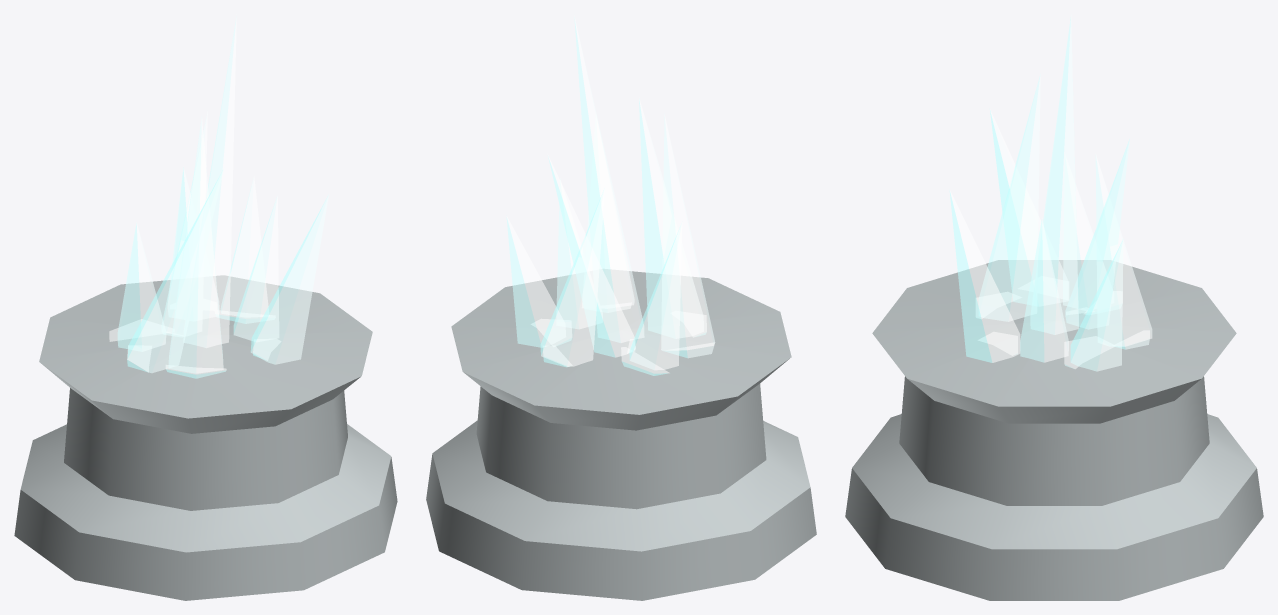
The model's file is uranium_large_source.glb.
The picture shows the model from 3 angles, left to right: view 1: azimuth 30°, elevation 25°; view 2: azimuth 150°, elevation 25°; view 3: azimuth 270°, elevation 25°; orthographic projection. The views are drawn at different scales.
Parts seen in each view (by area): view 1: glowing-crystal-cluster, crystal-spire; view 2: glowing-crystal-cluster, crystal-spire; view 3: glowing-crystal-cluster, crystal-spire.
Part boxes in pixels (x1,y1,x2,y2): glowing-crystal-cluster: (14, 275, 397, 600); crystal-spire: (109, 14, 328, 378); glowing-crystal-cluster: (426, 269, 816, 600); crystal-spire: (506, 16, 715, 375); glowing-crystal-cluster: (845, 260, 1263, 600); crystal-spire: (949, 14, 1152, 371).
Bounding box in the file's own units: 1.18 × 1.71 × 1.24.
